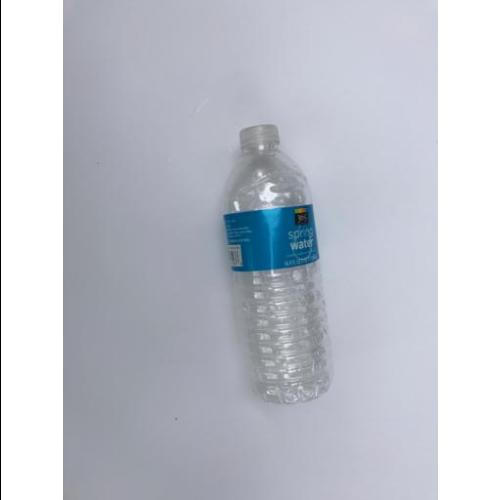plastic: (225, 124, 332, 403)
